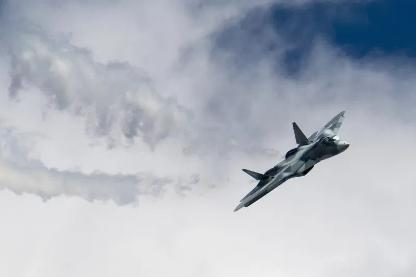SR71: (232, 111, 350, 210)
